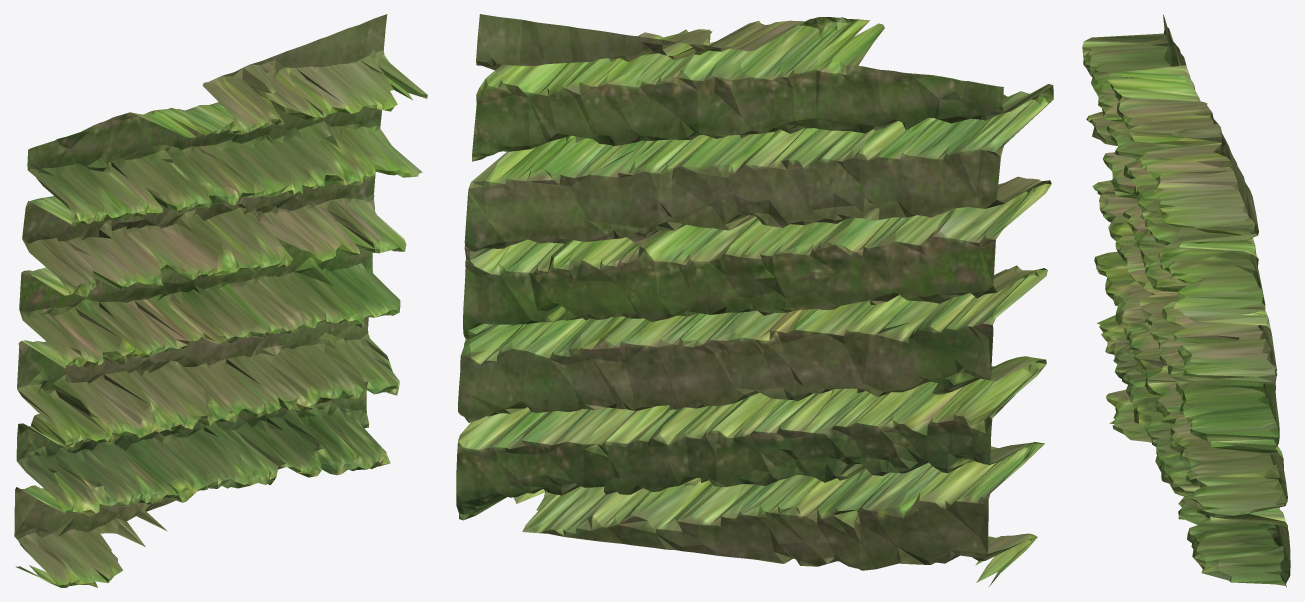
The model's file is map_180_0.obj.
The picture shows the model from 3 angles, left to right: view 1: azimuth 30°, elevation 25°; view 2: azimuth 150°, elevation 25°; view 3: azimuth 270°, elevation 25°; orthographic projection. The views are drawn at different scales.
Visible parts, largest first — view 1: grp1; view 2: grp1; view 3: grp1.
Part boxes in pixels (x1=…): grp1: x1=14, y1=14, x2=427, y2=587; grp1: x1=456, y1=14, x2=1053, y2=586; grp1: x1=1082, y1=14, x2=1290, y2=587.
Size of the model in its own units: 10 by 10 by 4.82.
Materials: 1 (1 with a texture image).
